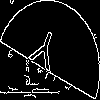Y: (25, 25, 61, 81)
